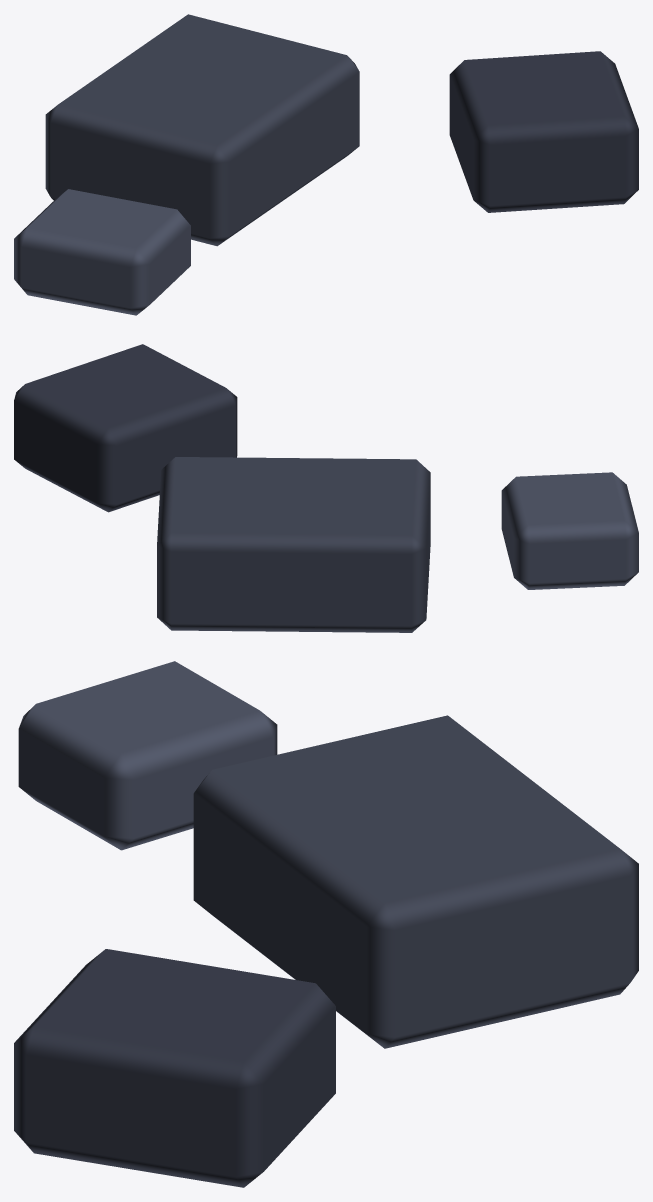
Rendered from wet-pebbles.22f36a36.glb.
3 renders of one model, top to bottom at view 1: azimuth 30°, elevation 25°; view 2: azimuth 150°, elevation 25°; view 3: azimuth 270°, elevation 25°, orthographic. The views are drawn at different scales.
Visible parts, largest first — view 1: body; view 2: body; view 3: body.
Boxes of the visible parts, <box> form: body: <box>14,14,638,315</box>; body: <box>14,344,638,632</box>; body: <box>14,661,638,1187</box>.
Bounding box in the file's own units: 0.1921 × 0.03 × 0.1165.
